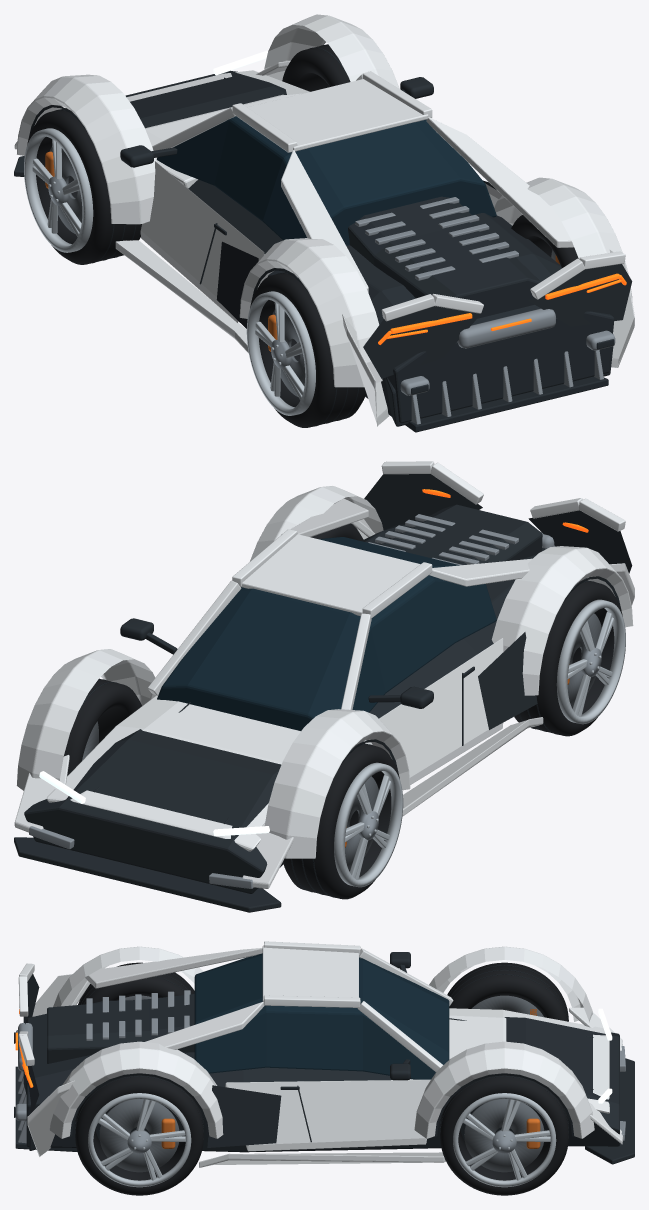
The model's file is Cloudline_C01.glb.
3 views of the same model, one above another, from view 1: azimuth 30°, elevation 25°; view 2: azimuth 150°, elevation 25°; view 3: azimuth 270°, elevation 25° (orthographic). The views are drawn at different scales.
Parts seen in each view (by area): view 1: Carbon monocoque, Canopy glass, Rear engine spine, Front sculpted fender -1, Rear sculpted fender -1, Door skin -1, Floating white roof, Rear tire -1, Front tire -1, Front sculpted fender 1, Rear sculpted fender 1, Recessed tail pocket -1 (+23 smaller); view 2: Canopy glass, Carbon monocoque, Central hood, Front sculpted fender -1, Floating white roof, Rear sculpted fender -1, Door skin -1, Front sculpted fender 1, Front tire -1, Front splitter, Rear tire -1, Rear engine spine (+22 smaller); view 3: Canopy glass, Carbon monocoque, Door skin 1, Front sculpted fender 1, Rear sculpted fender 1, Rear tire 1, Front tire 1, Rear engine spine, Floating white roof, Front tire -1, Central hood, Side intake 1 (+27 smaller).
Part boxes in pixels (x1,y1,x2,y2): Carbon monocoque: [125, 70, 614, 423]; Canopy glass: [157, 116, 496, 245]; Rear engine spine: [348, 196, 540, 318]; Front sculpted fender -1: [17, 74, 156, 224]; Rear sculpted fender -1: [239, 238, 382, 387]; Door skin -1: [140, 161, 264, 322]; Floating white roof: [247, 79, 428, 151]; Rear tire -1: [250, 271, 366, 427]; Front tire -1: [27, 108, 141, 264]; Front sculpted fender 1: [264, 14, 399, 88]; Rear sculpted fender 1: [494, 177, 632, 302]; Recessed tail pocket -1: [363, 306, 482, 378]; Canopy glass: [157, 537, 496, 730]; Carbon monocoque: [24, 520, 586, 893]; Central hood: [46, 695, 300, 851]; Front sculpted fender -1: [264, 709, 410, 858]; Floating white roof: [241, 534, 420, 616]; Rear sculpted fender -1: [491, 546, 633, 695]; Door skin -1: [363, 638, 503, 784]; Front sculpted fender 1: [16, 649, 155, 790]; Front tire -1: [283, 742, 399, 899]; Front splitter: [14, 837, 281, 912]; Rear tire -1: [514, 579, 622, 736]; Rear engine spine: [378, 504, 542, 564]; Canopy glass: [194, 953, 449, 1079]; Carbon monocoque: [26, 1000, 619, 1152]; Door skin 1: [225, 1079, 430, 1151]; Front sculpted fender 1: [414, 1041, 594, 1138]; Rear sculpted fender 1: [49, 1041, 223, 1138]; Rear tire 1: [75, 1073, 203, 1195]; Front tire 1: [440, 1073, 568, 1195]; Rear engine spine: [47, 994, 194, 1063]; Floating white roof: [262, 946, 358, 1001]; Front tire -1: [447, 962, 568, 1021]; Central hood: [409, 1008, 609, 1113]; Side intake 1: [207, 1085, 281, 1147].
Size of the model in its own units: 2.41 by 1.48 by 4.95.
